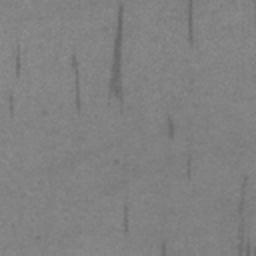Red iron sheet: (110, 4, 124, 99), (71, 55, 81, 110), (188, 0, 194, 44), (123, 206, 128, 233), (168, 118, 174, 139), (16, 54, 21, 76)
